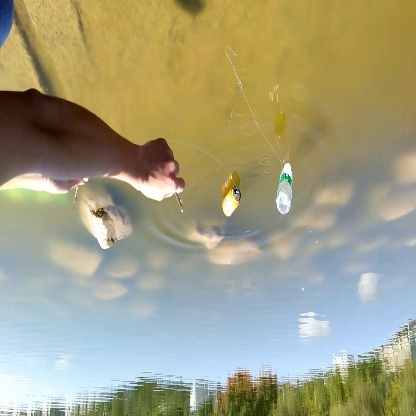bottle: (274, 157, 297, 215), (218, 183, 242, 222)
